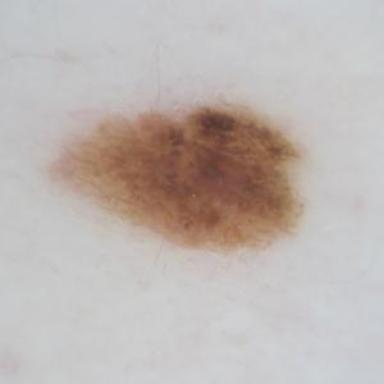Melanoma: (55, 106, 302, 249)
